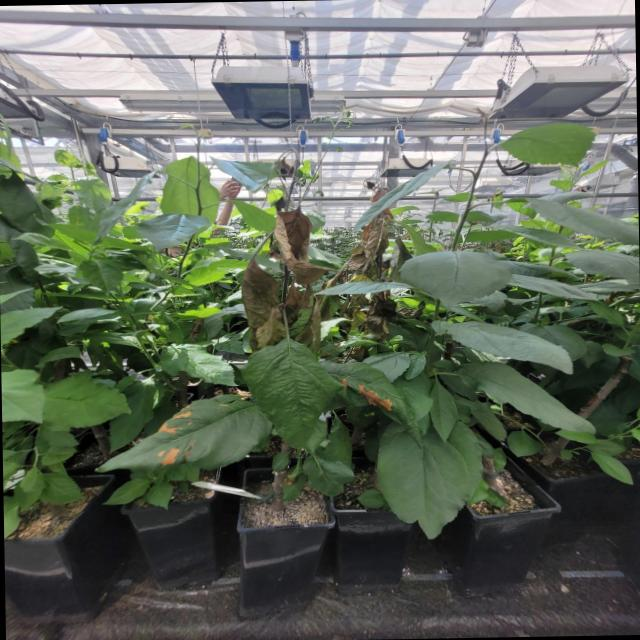-FireBlight-: (228, 195, 335, 452), (333, 196, 392, 350)
